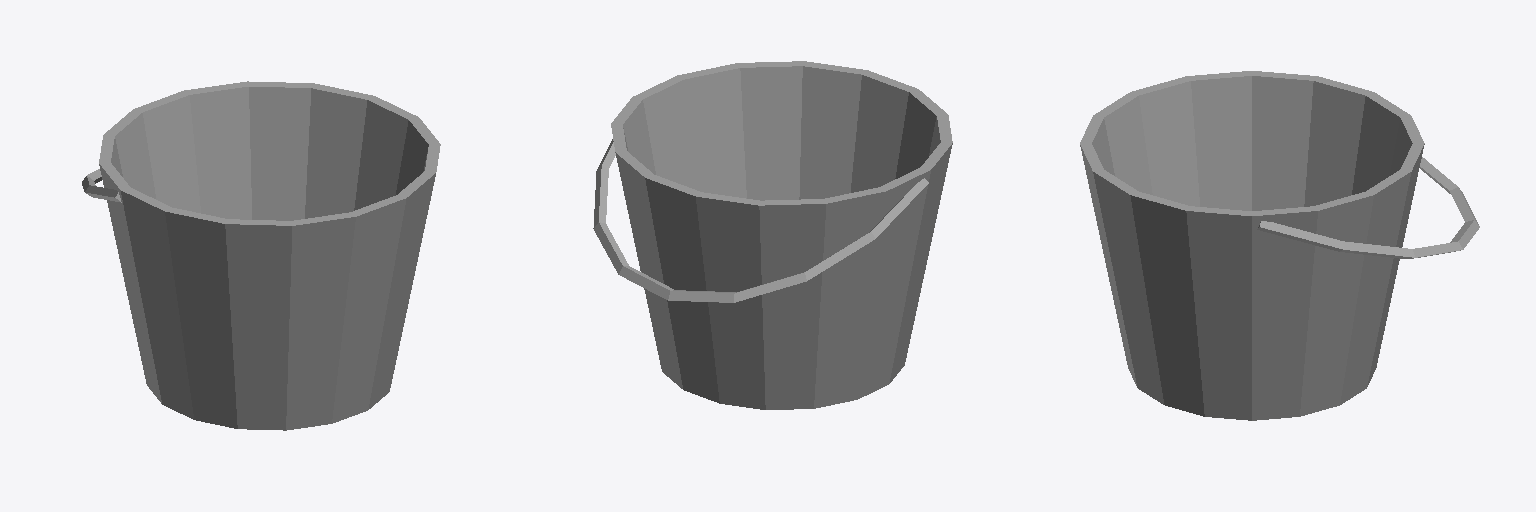
File: bucket.obj
3 views of the same model, side by side, from view 1: azimuth 30°, elevation 25°; view 2: azimuth 150°, elevation 25°; view 3: azimuth 270°, elevation 25° (orthographic).
Parts seen in each view (by area): view 1: cylinder6, torus4; view 2: cylinder6, torus4; view 3: cylinder6, torus4.
Boxes of the visible parts, box(x1,y1,x2,y2) form: cylinder6: box(99, 81, 440, 430); torus4: box(82, 169, 121, 202); cylinder6: box(611, 61, 952, 409); torus4: box(593, 139, 928, 302); cylinder6: box(1080, 71, 1424, 420); torus4: box(1257, 157, 1479, 258).
Bounding box in the file's own units: 2.81 × 2 × 3.23.